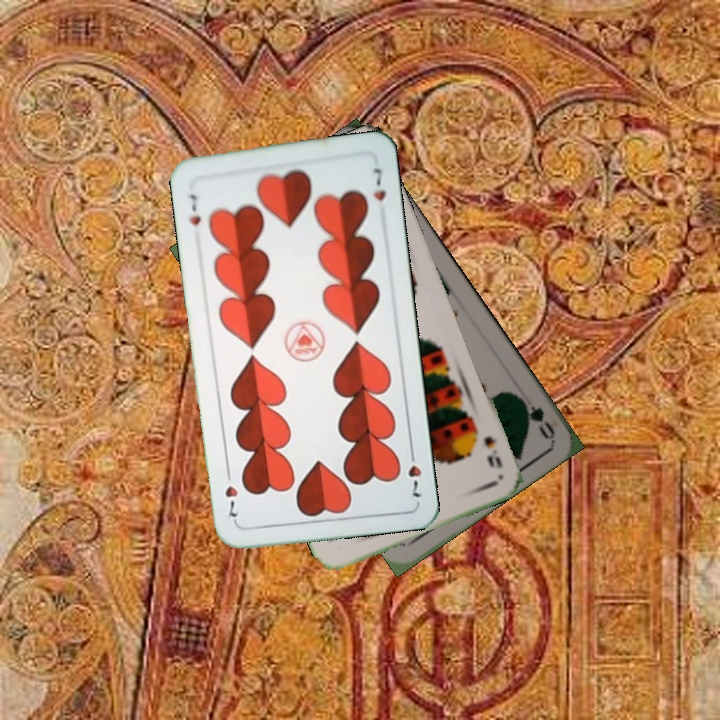GO: (512, 391, 558, 442)
H7: (404, 444, 424, 501), (186, 190, 204, 228)
S9: (479, 431, 505, 471)
